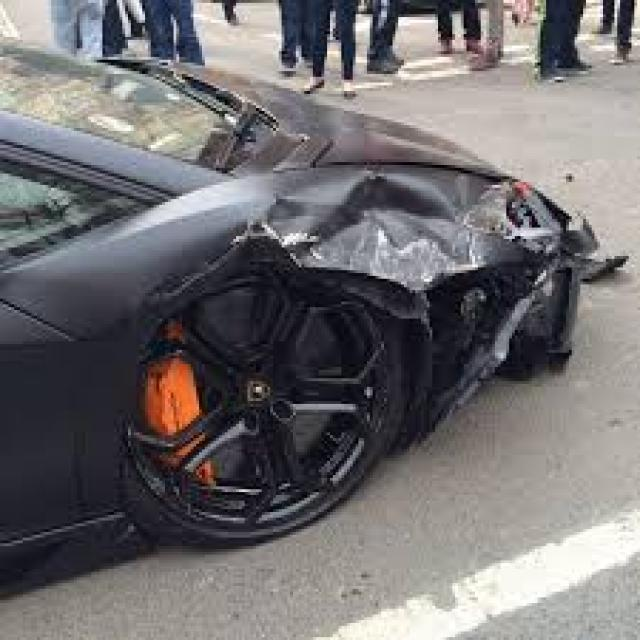moderate: (176, 125, 622, 473)
